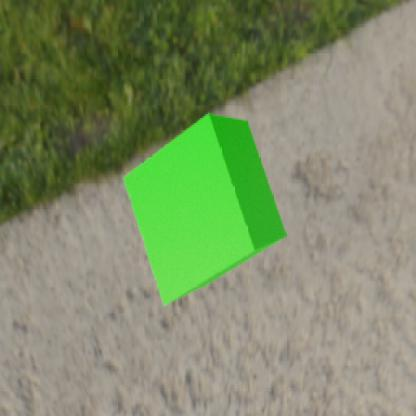cube: (122, 112, 286, 306)
